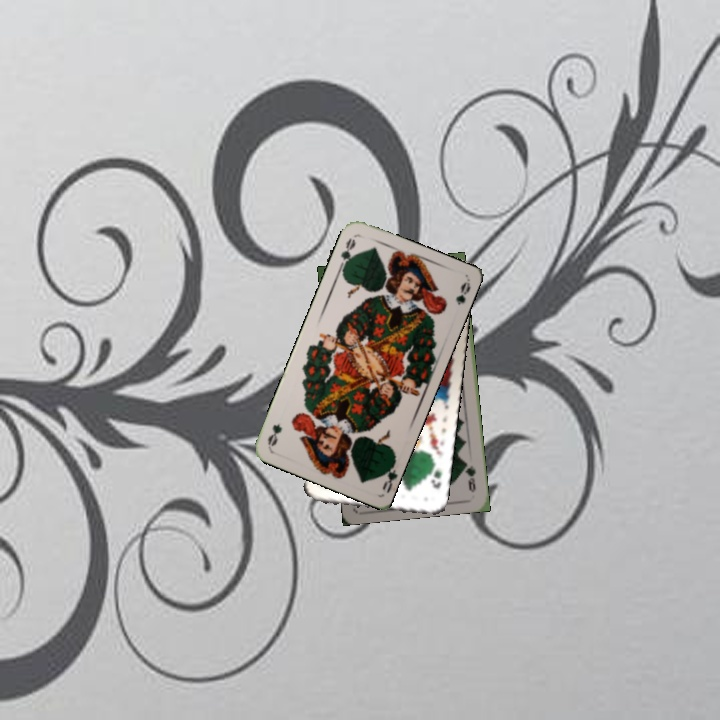G9: (461, 456, 478, 494)
GK: (426, 459, 444, 492)
GO: (375, 454, 399, 494), (335, 234, 358, 273)
